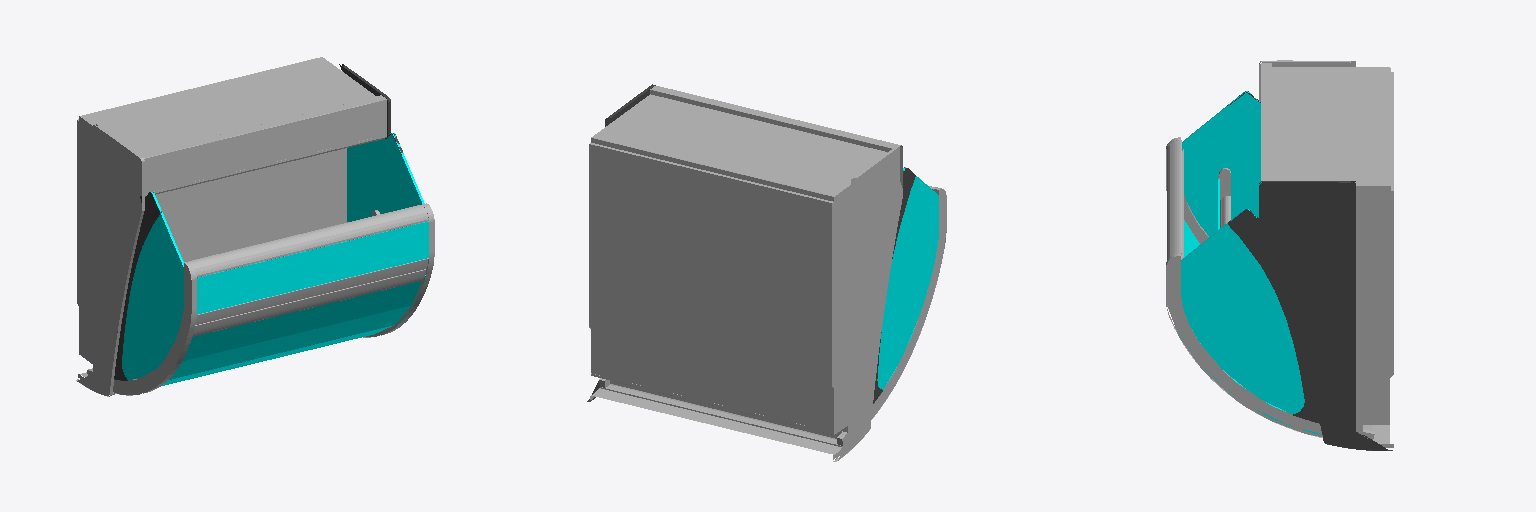
File: To_Be_Painted.obj
The picture shows the model from 3 angles: view 1: azimuth 30°, elevation 25°; view 2: azimuth 150°, elevation 25°; view 3: azimuth 270°, elevation 25°; orthographic projection.
Visible parts, largest first — view 1: showcase; view 2: showcase; view 3: showcase.
Boxes of the visible parts, x1,y1,x2,y2 form: showcase: [76, 57, 434, 396]; showcase: [587, 84, 946, 461]; showcase: [1166, 60, 1393, 450].
Bounding box in the file's own units: 114 × 118 × 90.38.